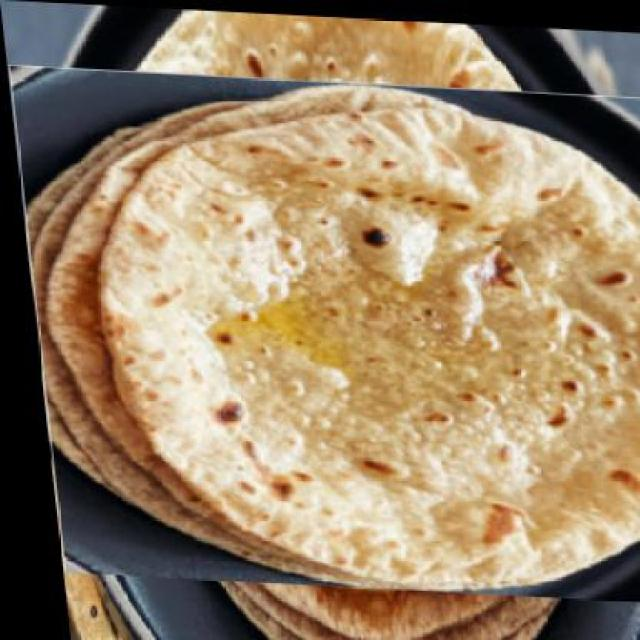chapati: (36, 32, 638, 632)
